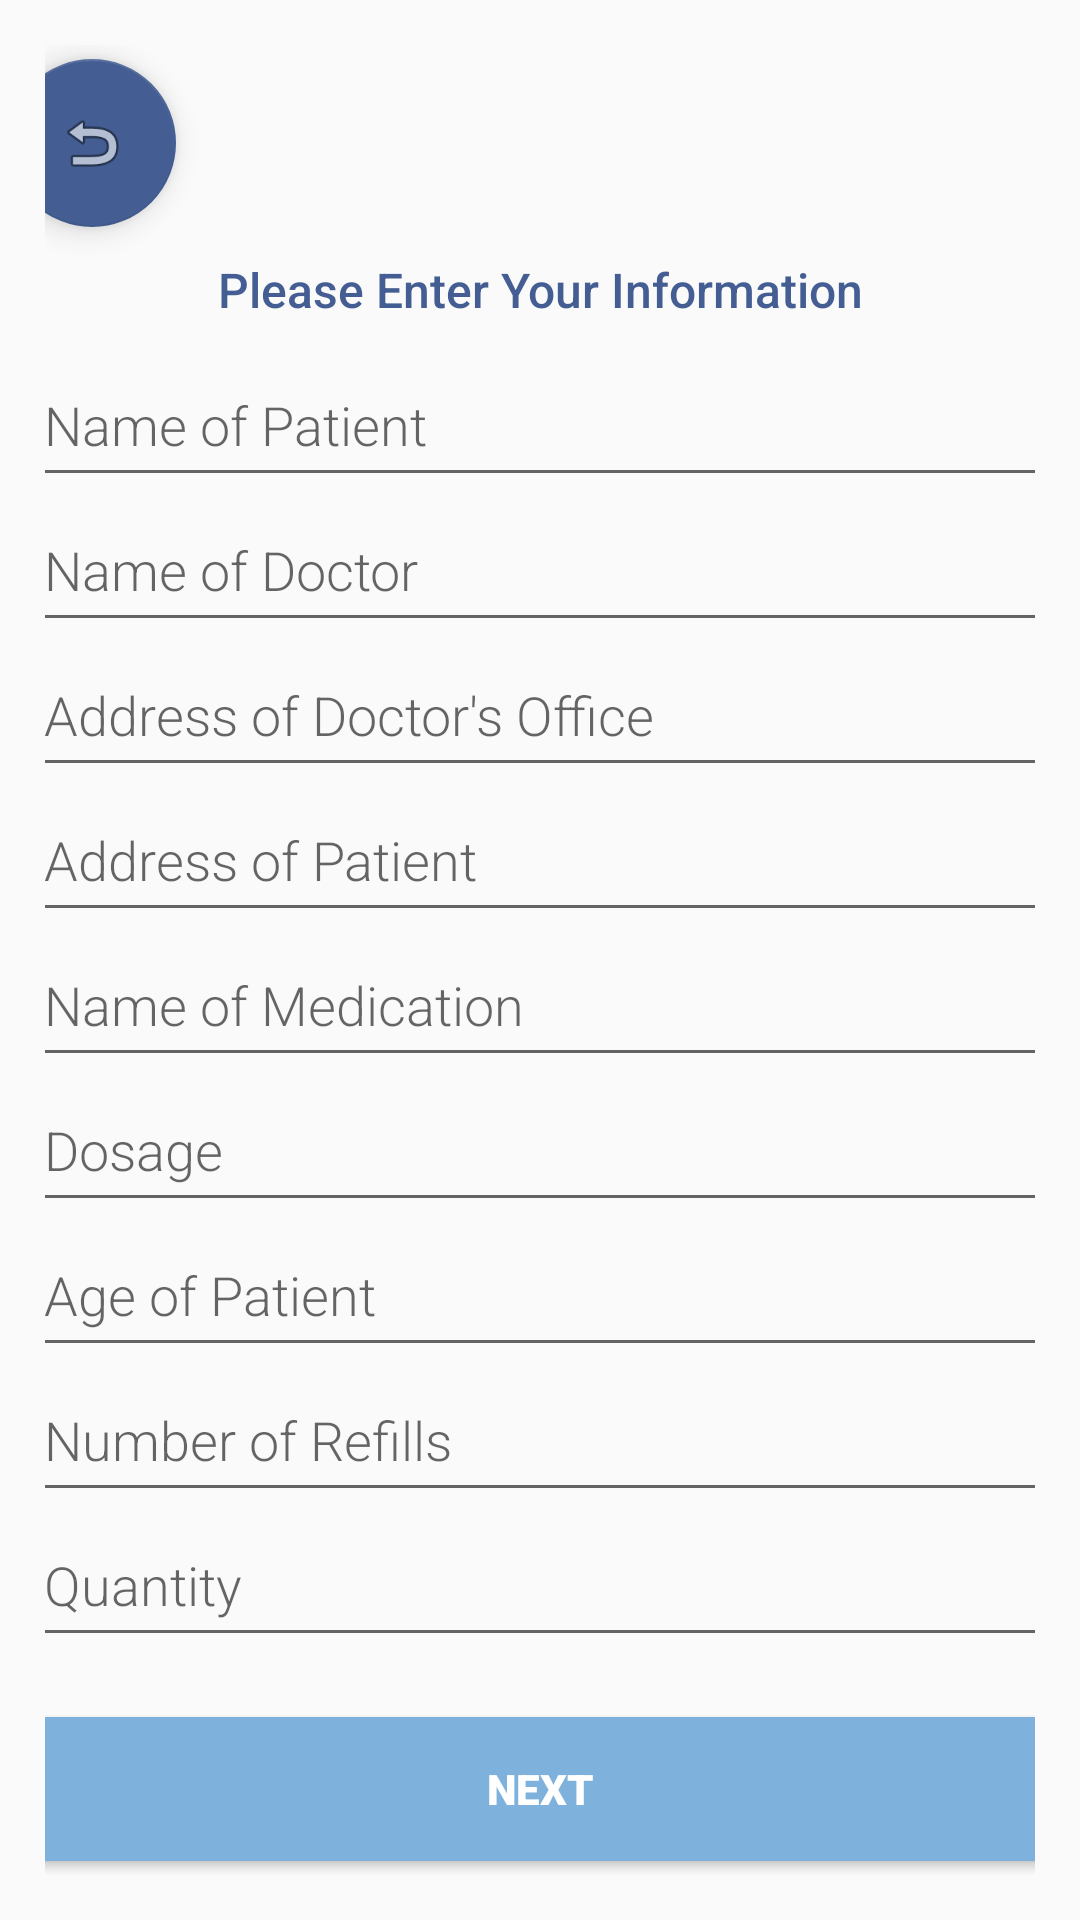

Icons on this 1080px x 1920px Android screen, each with its box as (left=x1, top=y1, right=x2, bottom=y2):
revert: (left=45, top=59, right=176, bottom=227)
